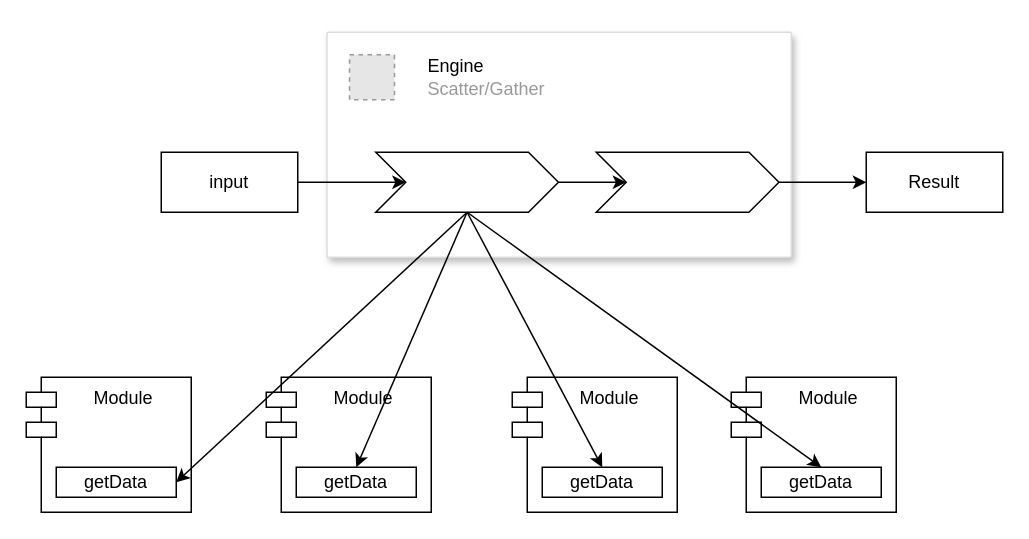
Image size: 1029x539. Some labels were removed from this diagram. Grey dashed boxes stand in for pictures. The centre of each missing label's shape, as x and y in pixels:
"gather data" goes at (466,181).
"process data" goes at (687,181).
